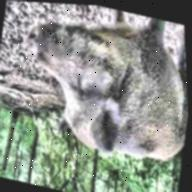boar: (3, 1, 191, 173)
